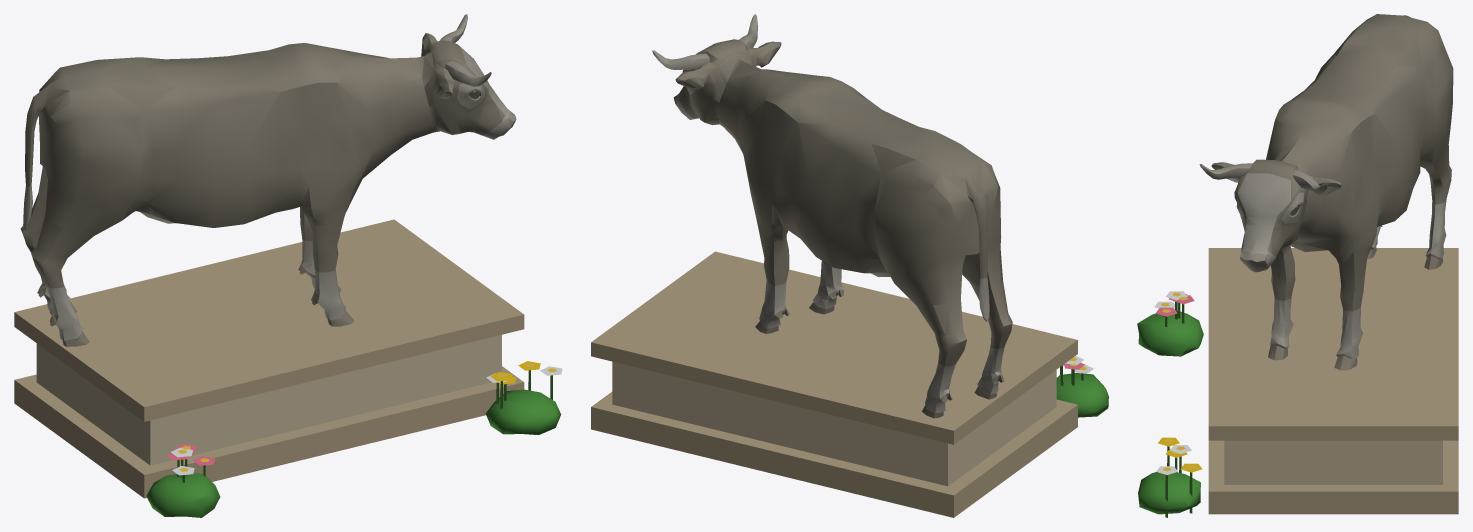
Rendered from statue_cow.glb.
3 views of the same model, side by side, from view 1: azimuth 30°, elevation 25°; view 2: azimuth 150°, elevation 25°; view 3: azimuth 270°, elevation 25° (orthographic). The views are drawn at different scales.
Visible parts, largest first — view 1: decor-statue_cow; view 2: decor-statue_cow; view 3: decor-statue_cow.
Boxes of the visible parts, x1=… form: decor-statue_cow: x1=14, y1=14, x2=562, y2=517; decor-statue_cow: x1=591, y1=14, x2=1108, y2=517; decor-statue_cow: x1=1137, y1=14, x2=1458, y2=517.
Bounding box in the file's own units: 2.97 × 2.37 × 2.06.
